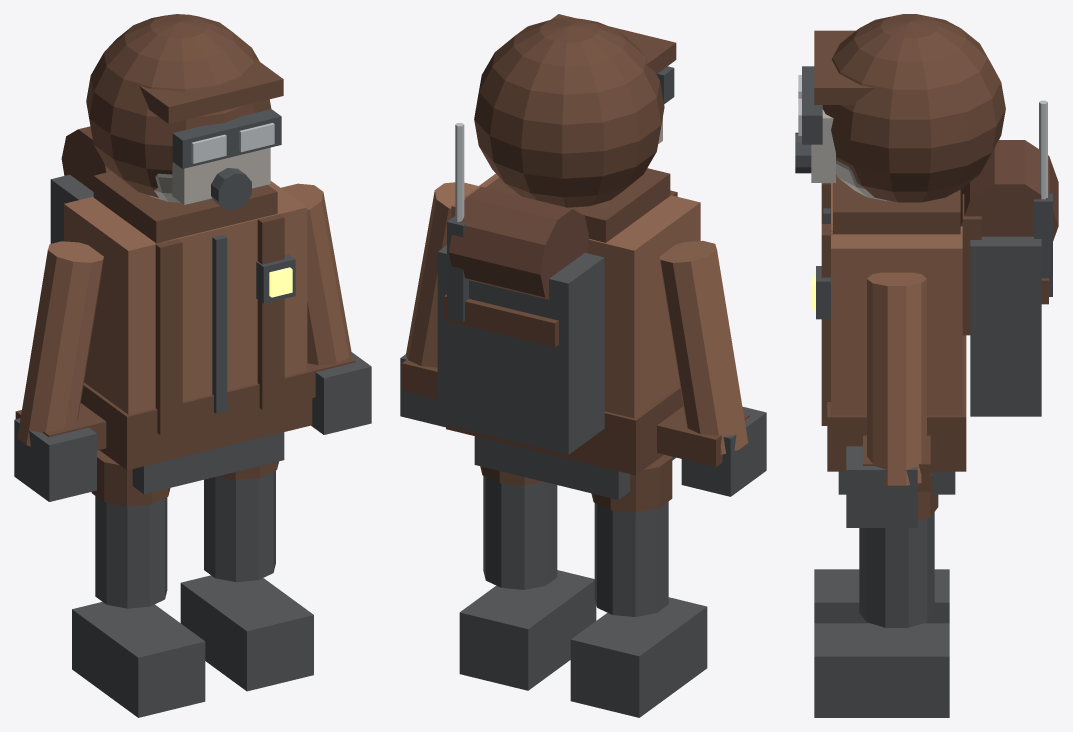
The model's file is Survivor.fbx.
3 renders of one model, left to right at view 1: azimuth 30°, elevation 25°; view 2: azimuth 150°, elevation 25°; view 3: azimuth 270°, elevation 25°, orthographic. The views are drawn at different scales.
Parts seen in each view (by area): view 1: Survivor; view 2: Survivor; view 3: Survivor.
Boxes of the visible parts, x1,y1,x2,y2 form: Survivor: [14, 14, 371, 717]; Survivor: [400, 14, 766, 717]; Survivor: [795, 14, 1058, 717].
Size of the model in its own units: 1.03 by 1.91 by 0.7.
